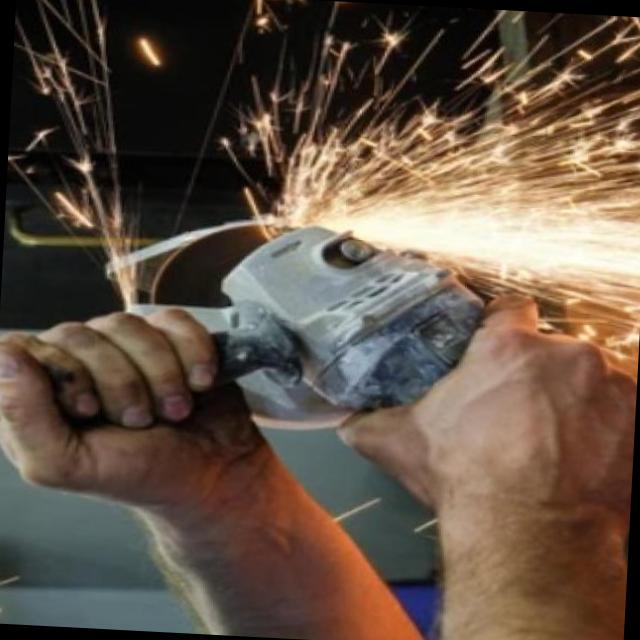not-gloved: (346, 281, 640, 532), (0, 298, 272, 519)
